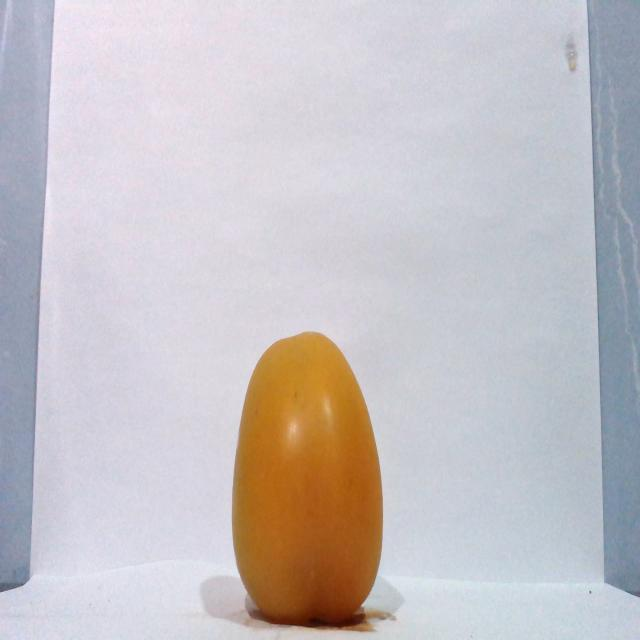Red: (229, 329, 384, 625)
